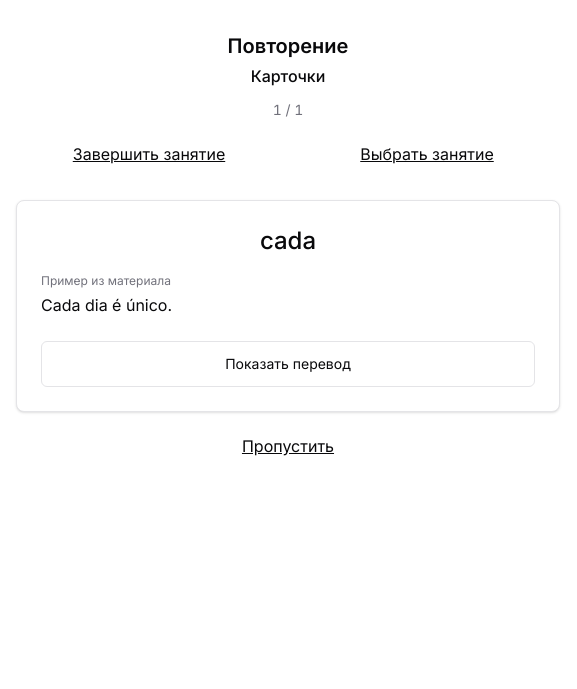
it: ReviewPage session flow (cards mode) › keeps the original example and allows grading when its translation fails
Click the button "Показать перевод" at (288, 364), box [41,341,535,387]
(page scrolled)
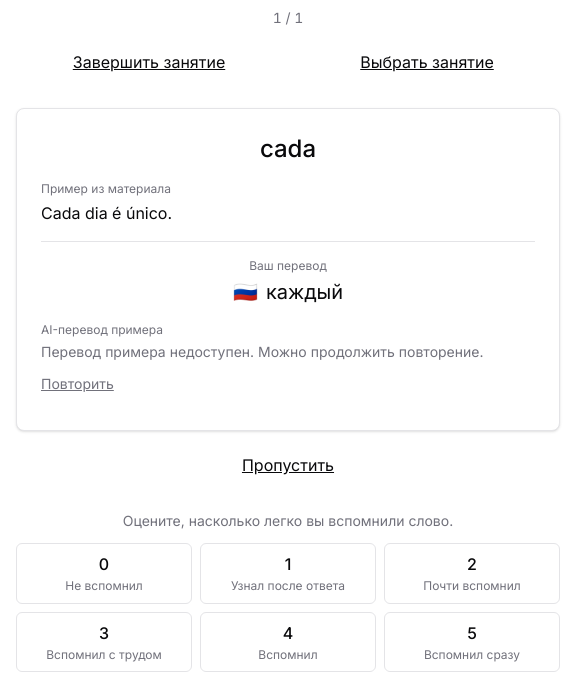
Expected: the text "Cada dia é único." is shown, [41,203,172,223]
Now the text "Перевод примера недоступен. Можно продолжить повторение." is shown, box [41,342,535,362]
Now the text "каждый" is shown, box [266,280,343,304]
Click the button "4 Вспомнил" at (288, 642), box [200,612,376,672]
(page scrolled)
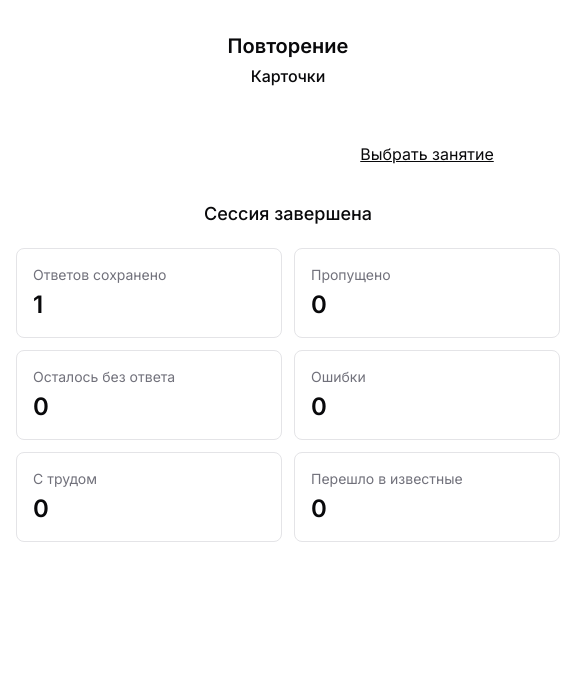
Now the heading "Сессия завершена" is shown, box [204,203,372,224]
